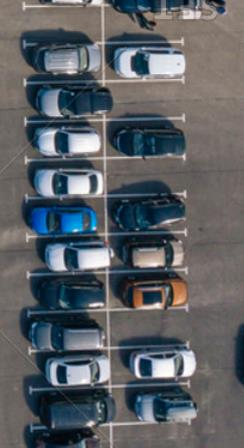car: (36, 84, 115, 120), (42, 394, 116, 431), (28, 319, 105, 353), (115, 46, 186, 82), (115, 196, 189, 230), (121, 274, 191, 309), (113, 125, 185, 159), (130, 347, 198, 383), (34, 167, 105, 201), (44, 242, 115, 275), (33, 126, 102, 158), (28, 205, 99, 236), (121, 238, 186, 271), (34, 43, 101, 75), (45, 354, 112, 386), (135, 392, 198, 426), (39, 281, 107, 310)
